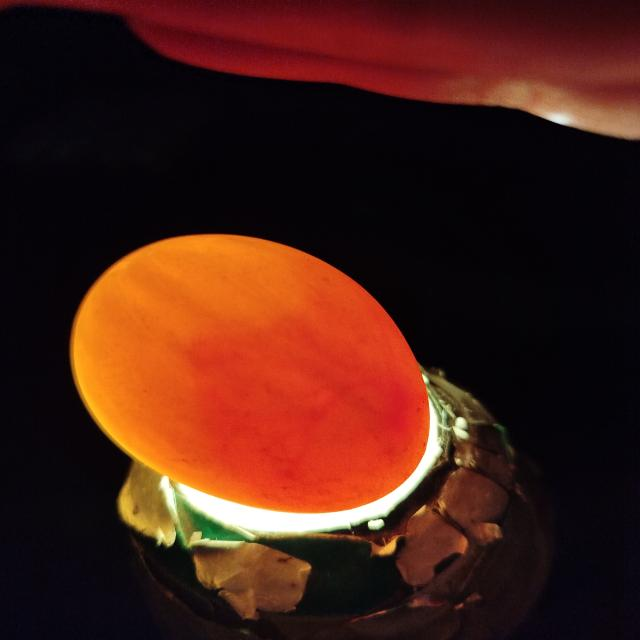Gema Quebrada: (166, 283, 429, 512)
